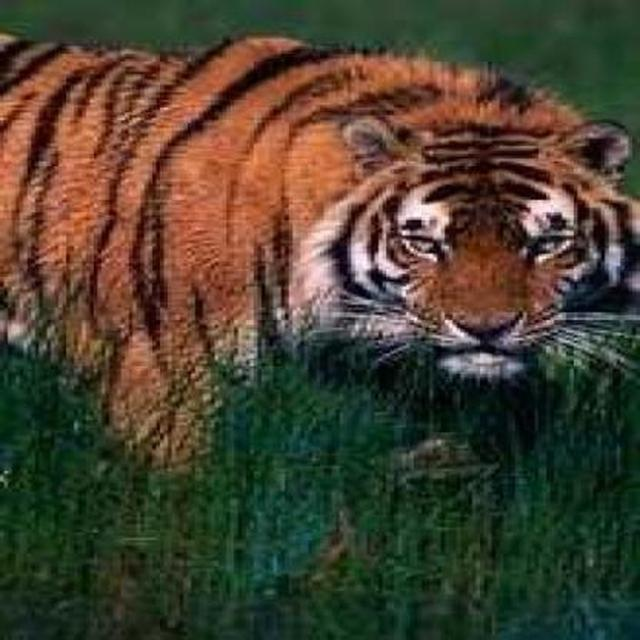tiger: (0, 21, 639, 480)
